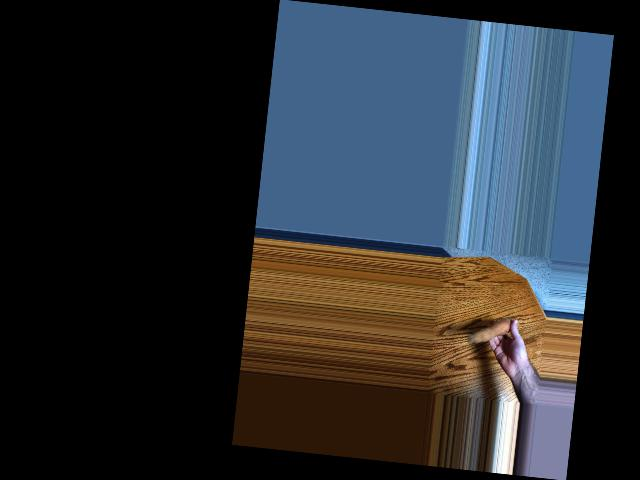sweet_potato: (465, 312, 520, 352)
